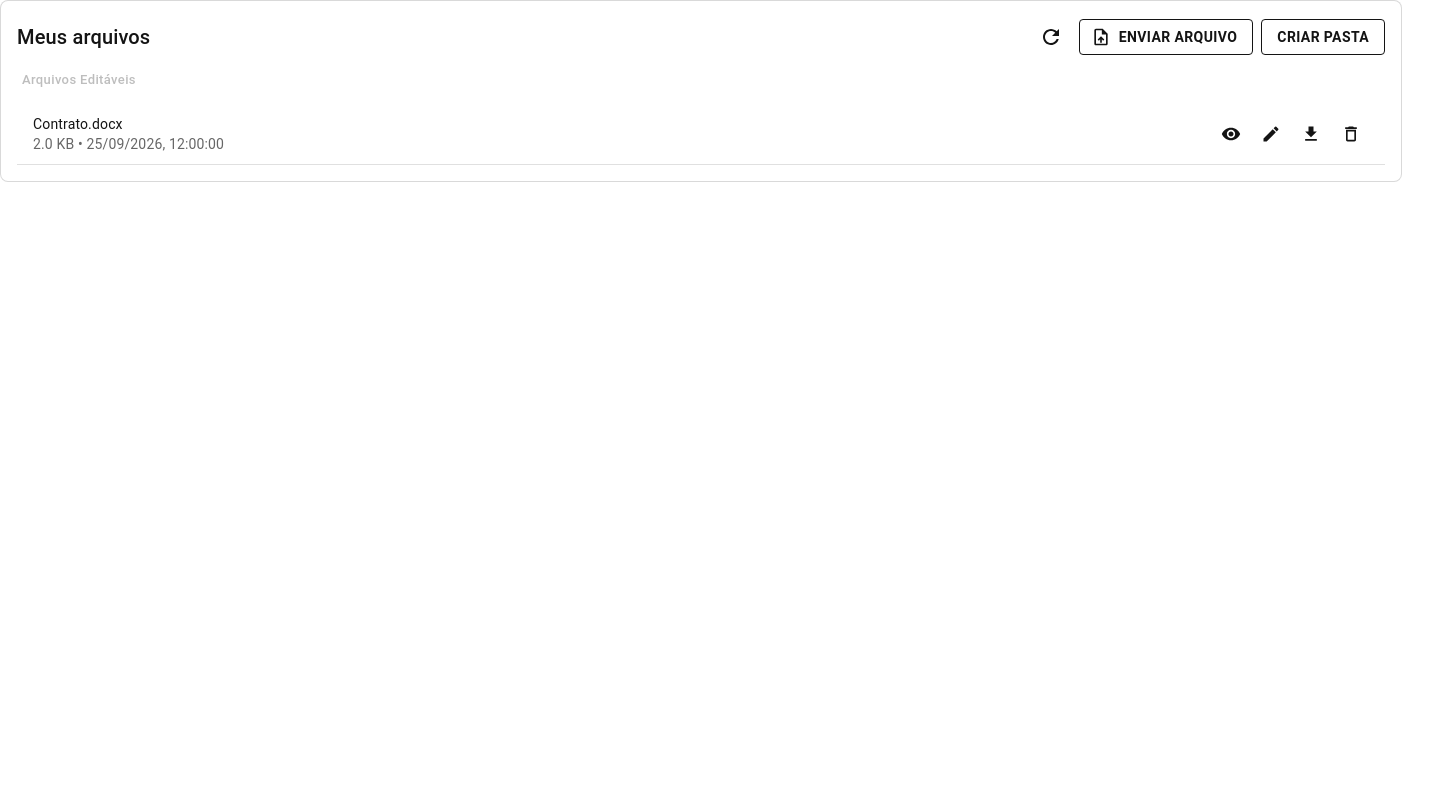
Test: shows delete for staff and deletes after confirmation
Click the button named "Excluir Contrato.docx" at coordinates (1351, 134), box [1333,116,1369,152]
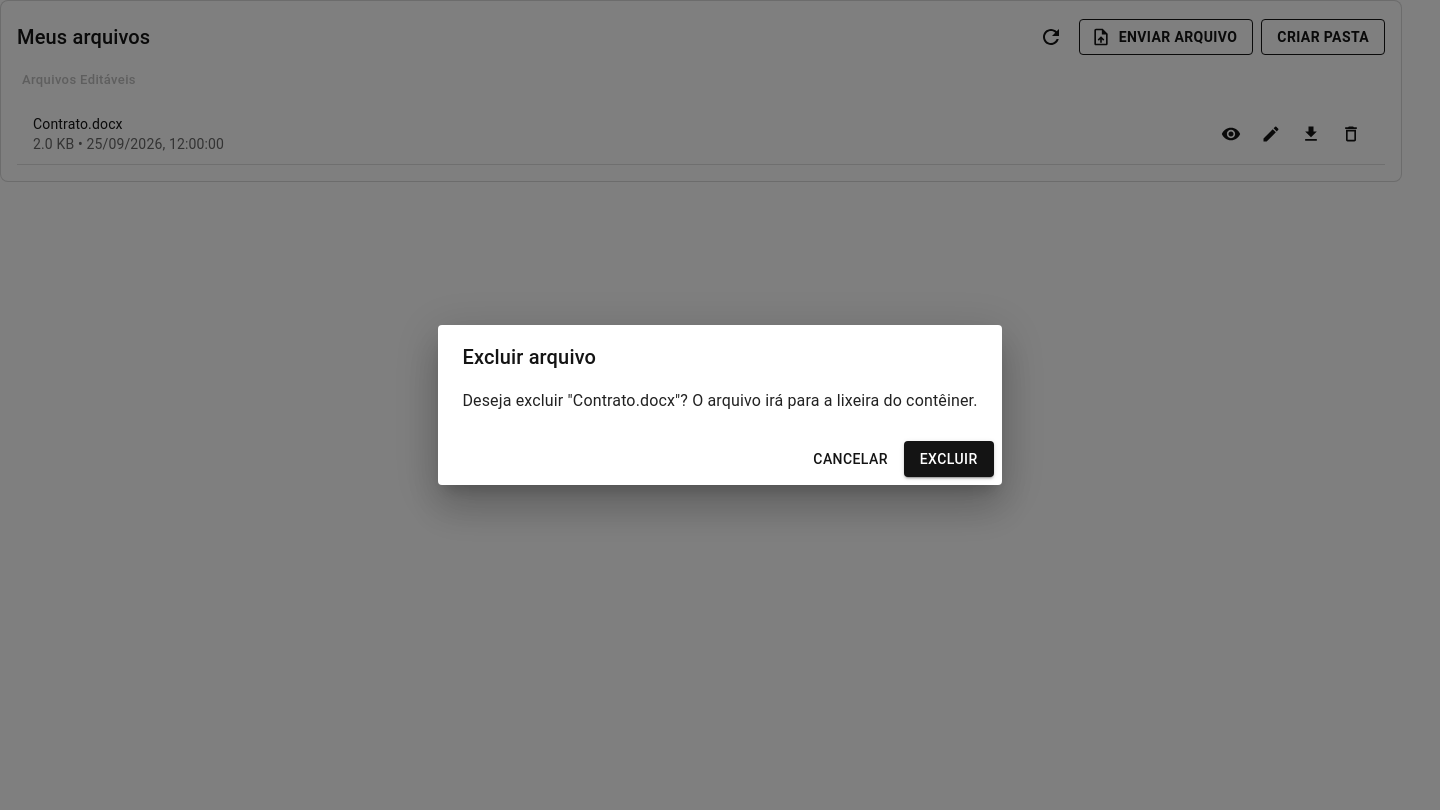
Click the button "Excluir" at coordinates (949, 459), box [904,441,994,477]
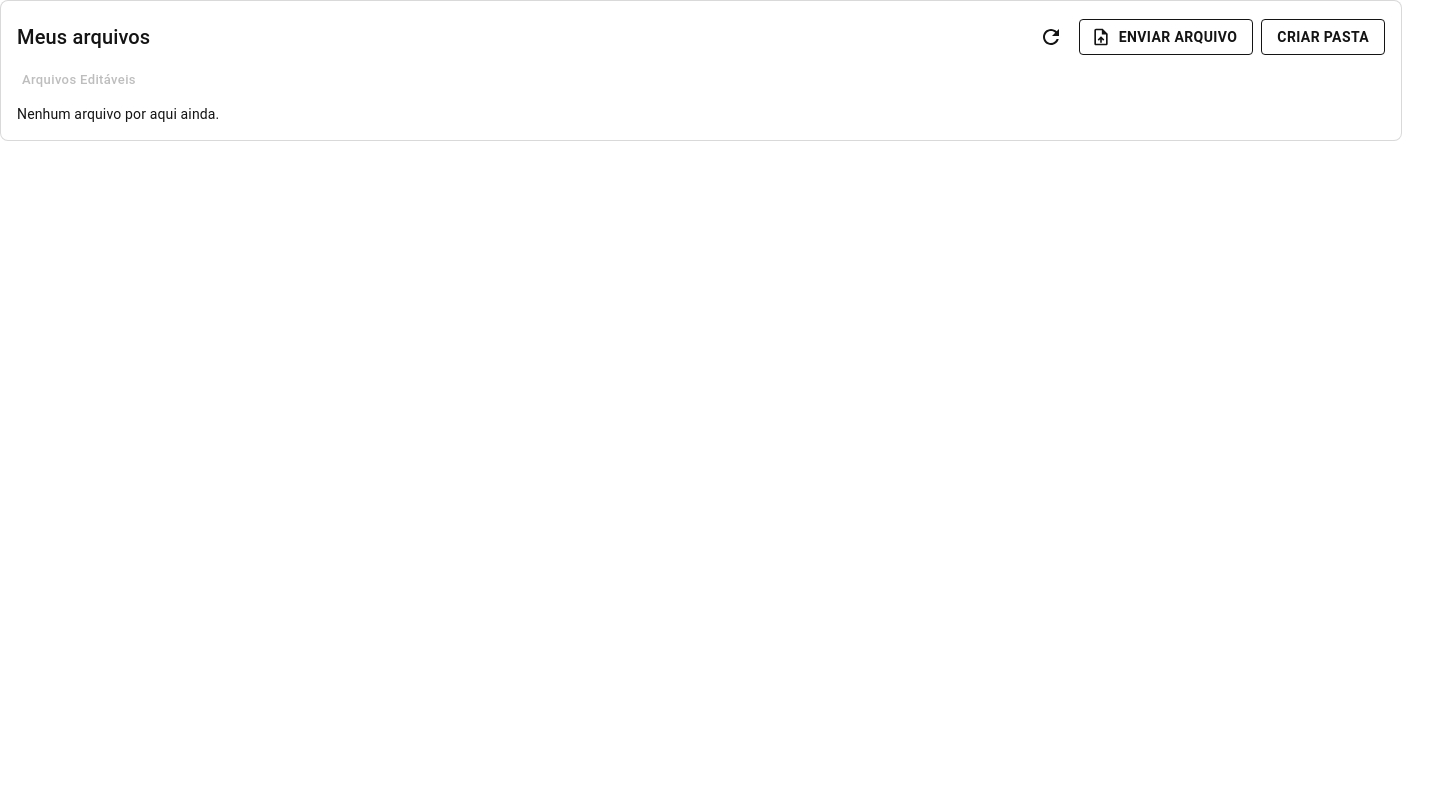
Expected: the button "Contrato.docx" is gone
